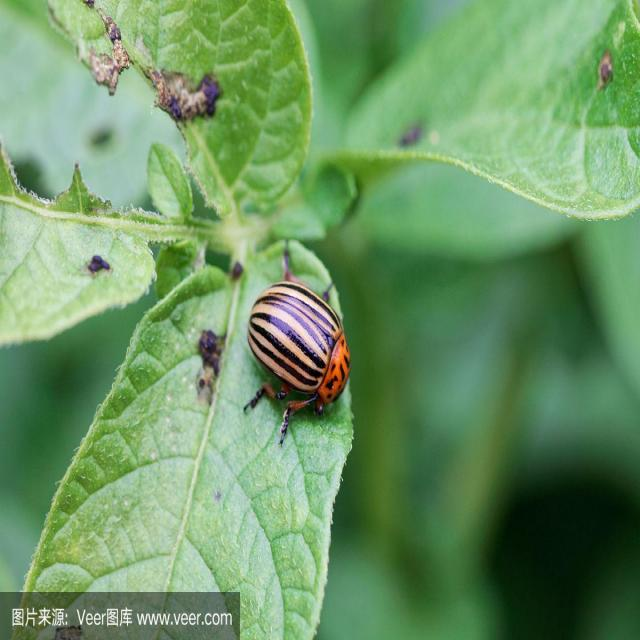ShuCaiHuaBanChong-Grown-: (244, 272, 360, 421)
